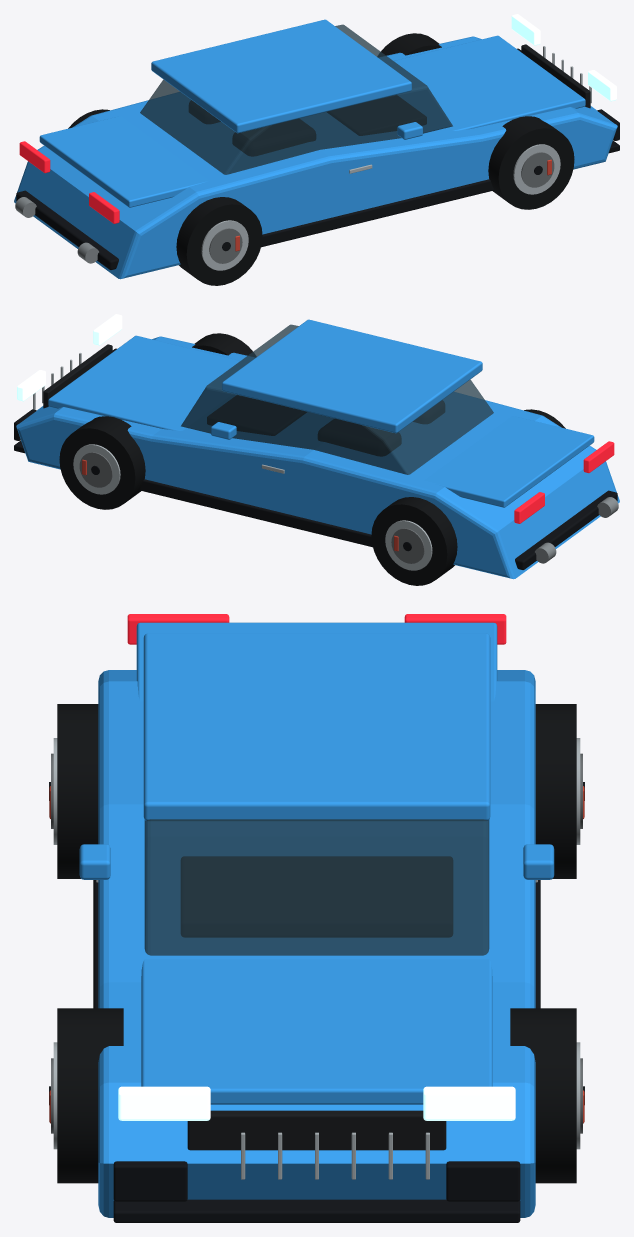
File: ford_mustang_dark_horse.glb
The picture shows the model from 3 angles, top to bottom: view 1: azimuth 30°, elevation 25°; view 2: azimuth 150°, elevation 25°; view 3: azimuth 270°, elevation 25°; orthographic projection. The views are drawn at different scales.
Visible parts, largest first — view 1: sculpted_body, roof, glasshouse, hood_center, rear_deck, front_right_wheel_tire, rear_right_wheel_tire, side_skirt_1, dashboard, seat_1, rear_diffuser, front_right_wheel_rim (+9 smaller); view 2: sculpted_body, roof, glasshouse, hood_center, rear_deck, front_left_wheel_tire, rear_left_wheel_tire, side_skirt_-1, dashboard, seat_-1, rear_diffuser, front_left_wheel_rim (+9 smaller); view 3: sculpted_body, roof, hood_center, glasshouse, dashboard, front_grille, front_splitter, front_left_wheel_tire, front_right_wheel_tire, rear_left_wheel_tire, rear_right_wheel_tire, rear_deck (+8 smaller).
Boxes of the visible parts, bbox=[...] form: sculpted_body: bbox=[14, 36, 617, 279]; roof: bbox=[151, 19, 411, 133]; glasshouse: bbox=[140, 24, 452, 174]; hood_center: bbox=[386, 35, 585, 130]; rear_deck: bbox=[39, 116, 209, 207]; front_right_wheel_tire: bbox=[488, 116, 574, 209]; rear_right_wheel_tire: bbox=[176, 197, 262, 285]; side_skirt_1: bbox=[261, 179, 494, 247]; dashboard: bbox=[327, 95, 426, 135]; seat_1: bbox=[233, 119, 315, 155]; rear_diffuser: bbox=[16, 190, 118, 269]; front_right_wheel_rim: bbox=[513, 144, 560, 194]; sculpted_body: bbox=[16, 336, 619, 579]; roof: bbox=[222, 319, 482, 433]; glasshouse: bbox=[181, 324, 493, 474]; hood_center: bbox=[48, 335, 247, 430]; rear_deck: bbox=[424, 416, 594, 507]; front_left_wheel_tire: bbox=[59, 416, 145, 509]; rear_left_wheel_tire: bbox=[371, 497, 457, 585]; side_skirt_-1: bbox=[139, 479, 372, 547]; dashboard: bbox=[207, 395, 306, 435]; seat_-1: bbox=[318, 419, 400, 455]; rear_diffuser: bbox=[515, 490, 617, 569]; front_left_wheel_rim: bbox=[73, 444, 120, 494]; sculpted_body: bbox=[98, 670, 535, 1217]; roof: bbox=[143, 633, 490, 820]; hood_center: bbox=[141, 959, 492, 1104]; glasshouse: bbox=[144, 819, 489, 955]; dashboard: bbox=[181, 857, 452, 936]; front_grille: bbox=[187, 1110, 446, 1150]; front_splitter: bbox=[113, 1199, 520, 1222]; front_left_wheel_tire: bbox=[510, 1008, 576, 1183]; front_right_wheel_tire: bbox=[57, 1008, 123, 1183]; rear_left_wheel_tire: bbox=[535, 704, 576, 878]; rear_right_wheel_tire: bbox=[57, 704, 98, 878]; rear_deck: bbox=[136, 622, 497, 701].
Bounding box in the file's own units: 5.09 × 1.27 × 2.26.
